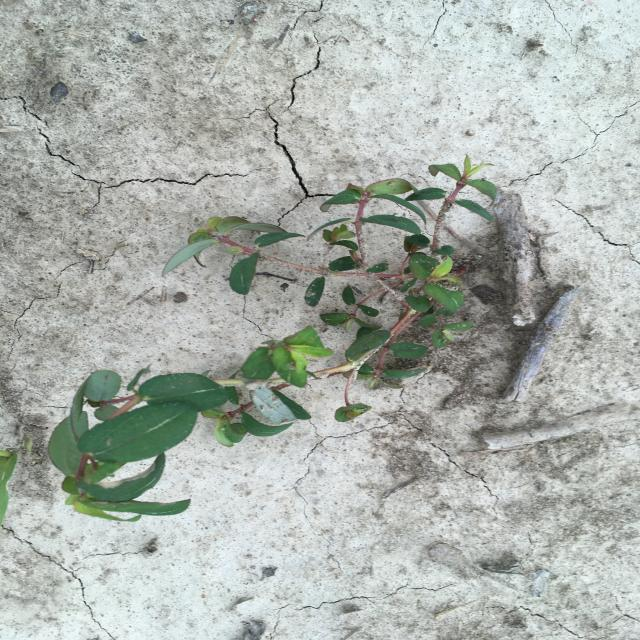SpottedSpurge: (48, 155, 500, 522)
